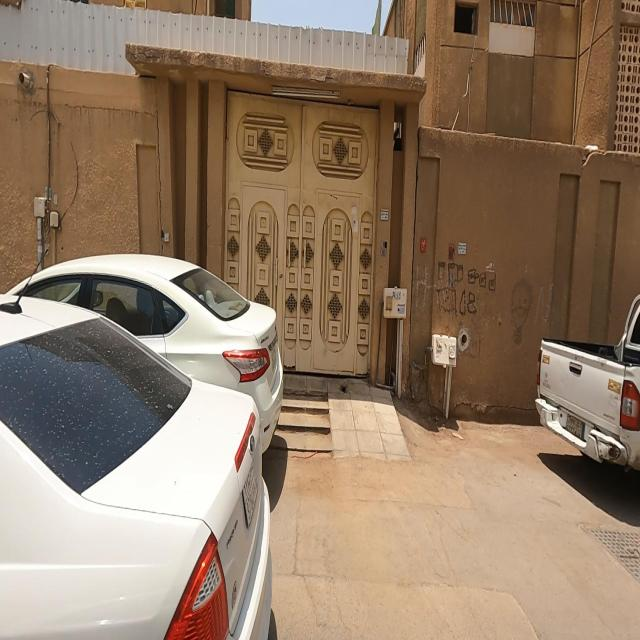Graffiti: (437, 259, 500, 320), (511, 279, 554, 345), (468, 323, 484, 360)
